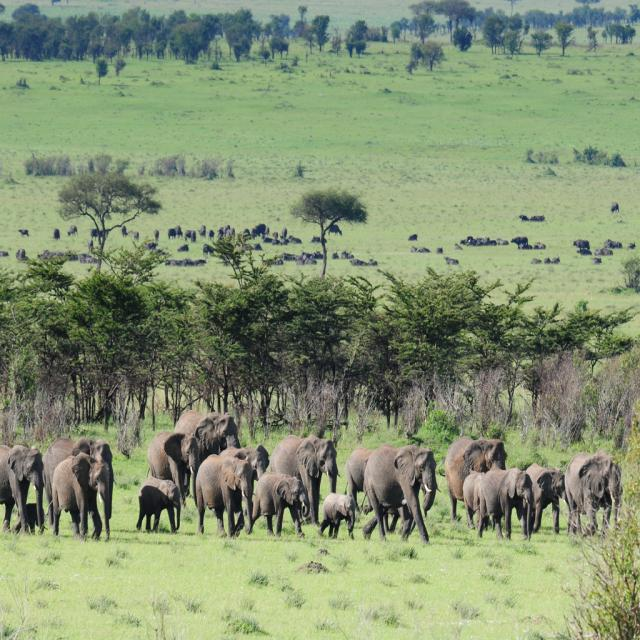elephant: (360, 447, 442, 540), (562, 447, 622, 549), (275, 438, 346, 518), (446, 434, 509, 524), (52, 453, 114, 540), (194, 452, 252, 535), (0, 444, 46, 535), (248, 473, 308, 535), (144, 429, 197, 498), (482, 469, 532, 537), (44, 435, 116, 480), (178, 408, 240, 452), (136, 478, 182, 536), (529, 466, 565, 539), (342, 446, 370, 510), (320, 494, 354, 544), (230, 447, 272, 482), (463, 478, 483, 528)
